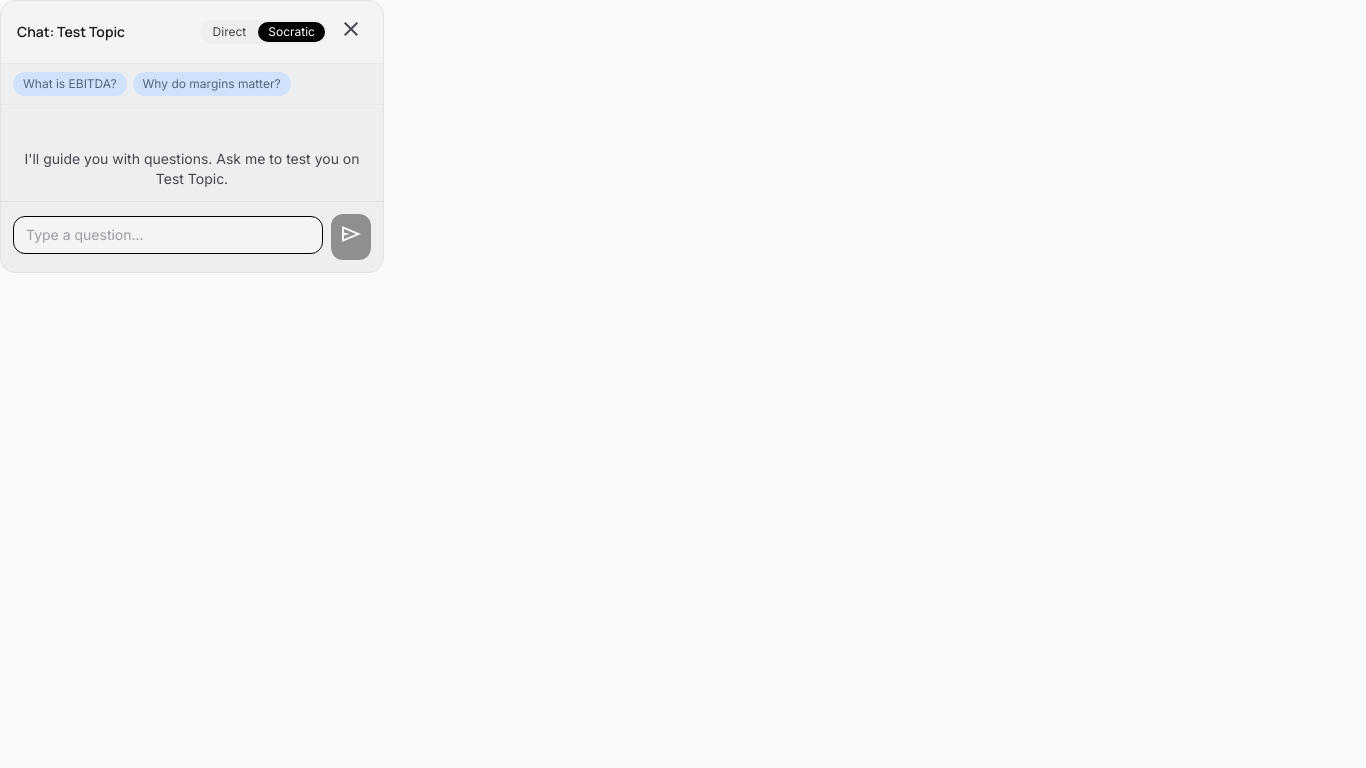
Scenario: ChatDrawer › enables send button when input has text
Type "Test question" into the text box with placeholder "Type a question..." at (168, 235), box [13,216,323,254]
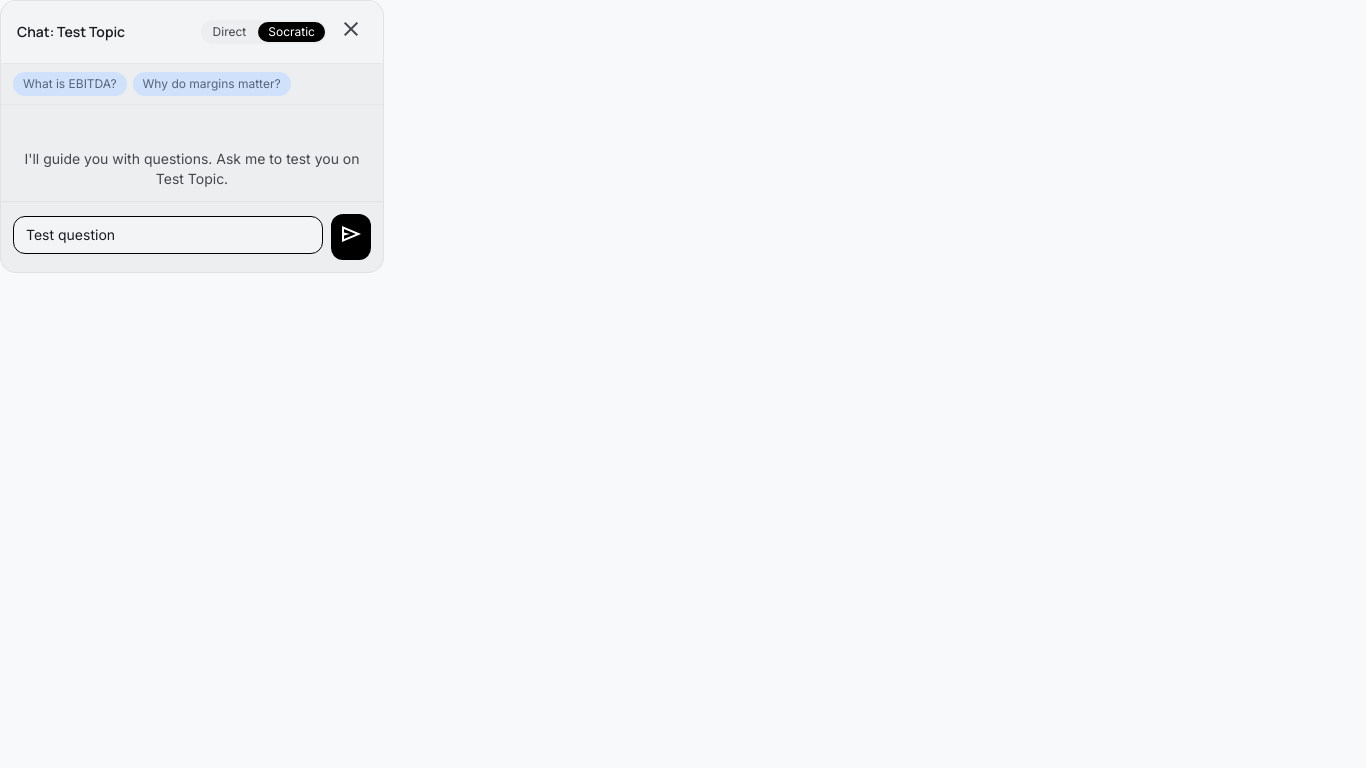
Expected: the button titled "Send" is enabled, [331,214,371,260]
